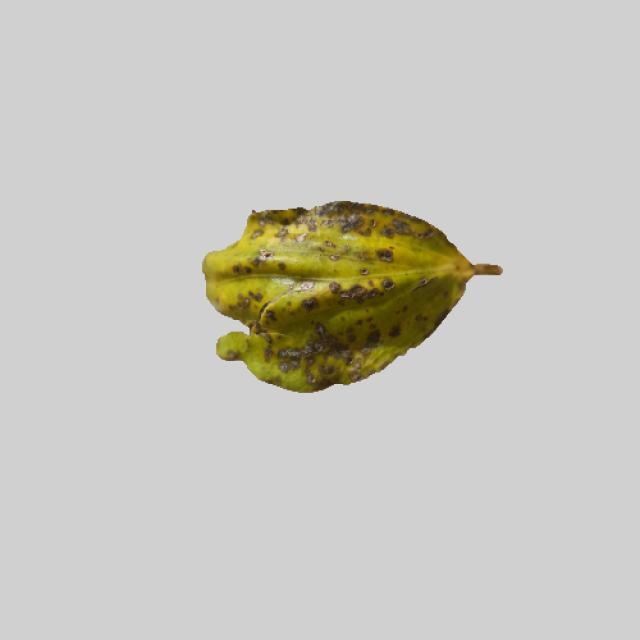yellow-mottle-virus: (196, 195, 504, 393)
